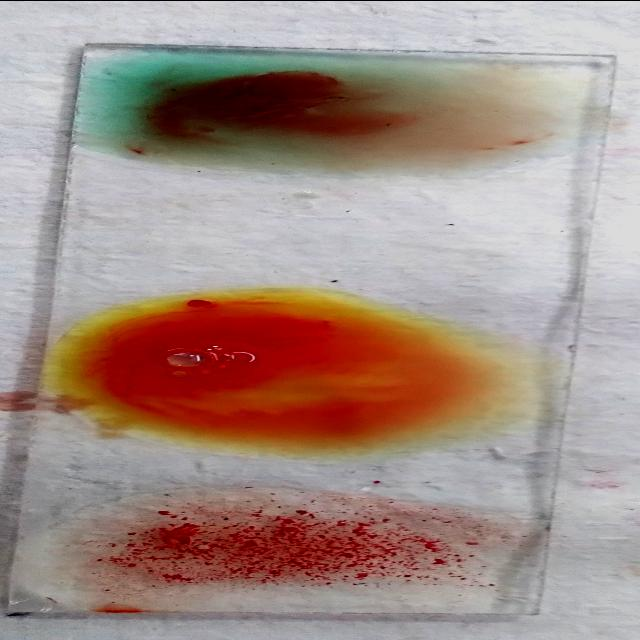D: (63, 494, 507, 598)
